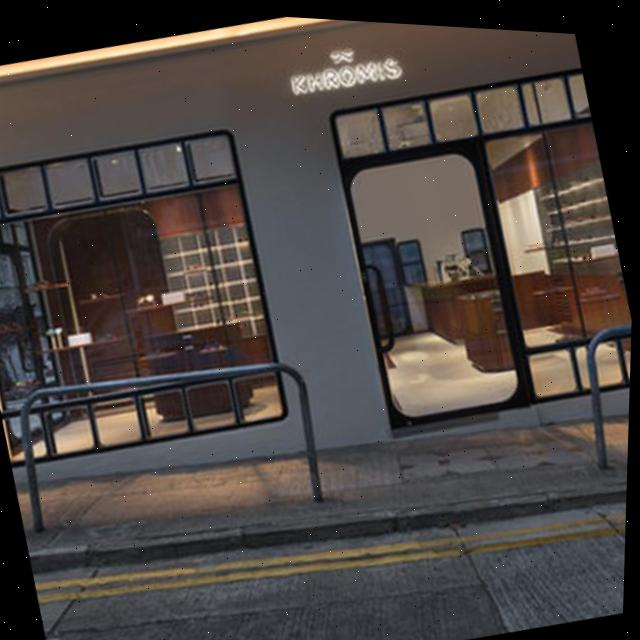building: (0, 0, 640, 557)
